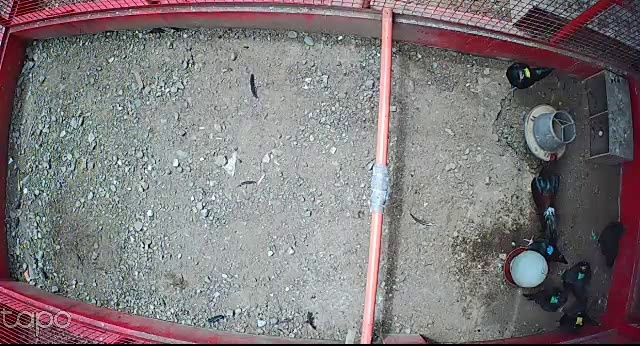Chicken: (585, 214, 628, 275), (498, 58, 558, 99), (557, 258, 593, 321), (554, 304, 604, 338), (521, 284, 569, 314)
Rooster: (527, 149, 562, 251)
Saddle_Color_Yellow: (576, 316, 583, 327)
Saddle_Color_YellowGreen: (522, 67, 531, 79)
